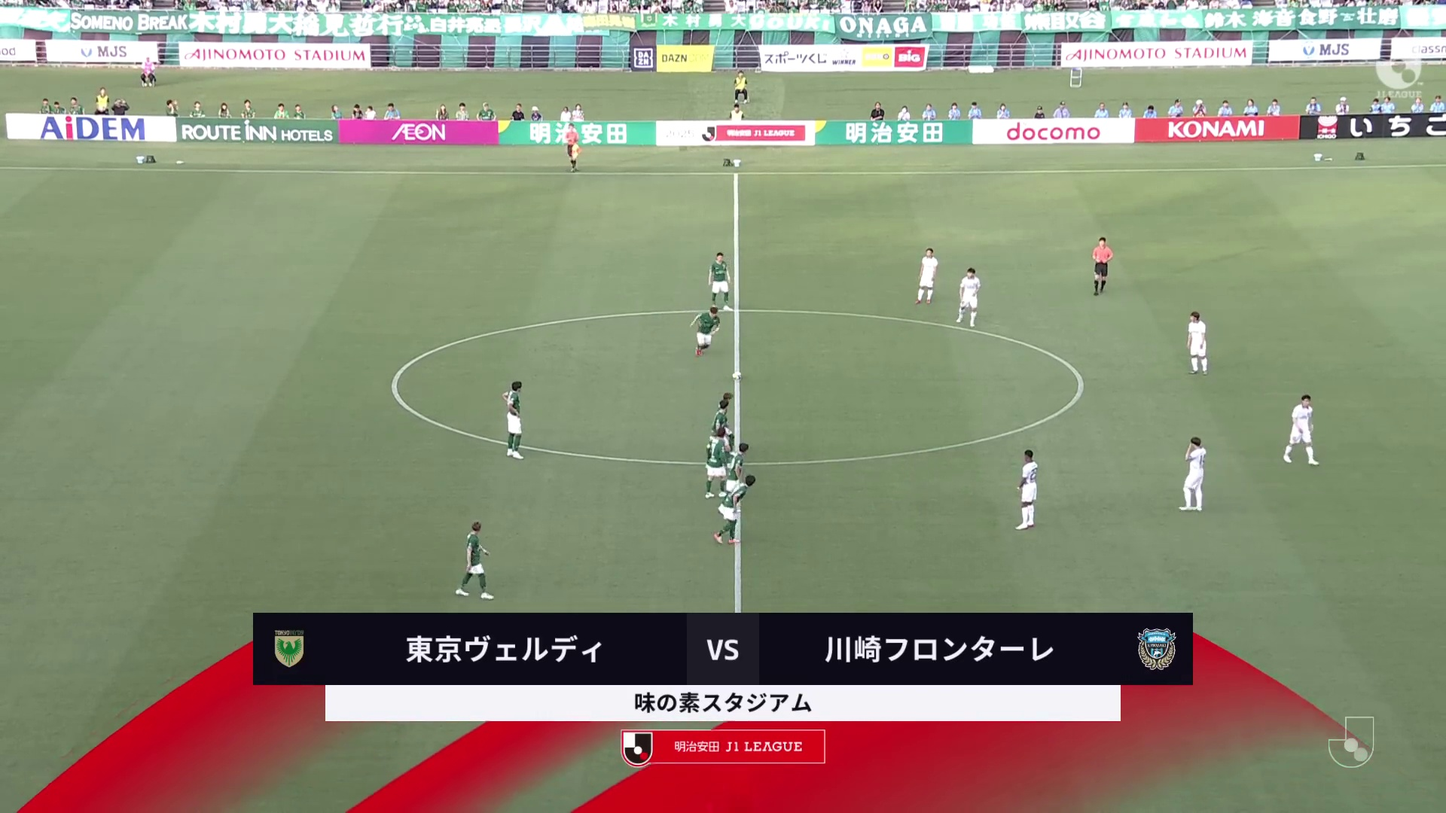ball: (730, 371, 743, 382)
player: (452, 520, 499, 603), (1280, 393, 1323, 469), (713, 474, 756, 545), (1011, 448, 1044, 532), (1176, 435, 1211, 514), (498, 379, 531, 462), (1182, 310, 1214, 377), (952, 266, 984, 330), (705, 251, 736, 312), (705, 428, 731, 500), (912, 246, 942, 307), (688, 305, 722, 358), (708, 398, 737, 454), (725, 440, 749, 506), (712, 390, 735, 410)
referee: (1088, 236, 1116, 299), (561, 123, 585, 175)
